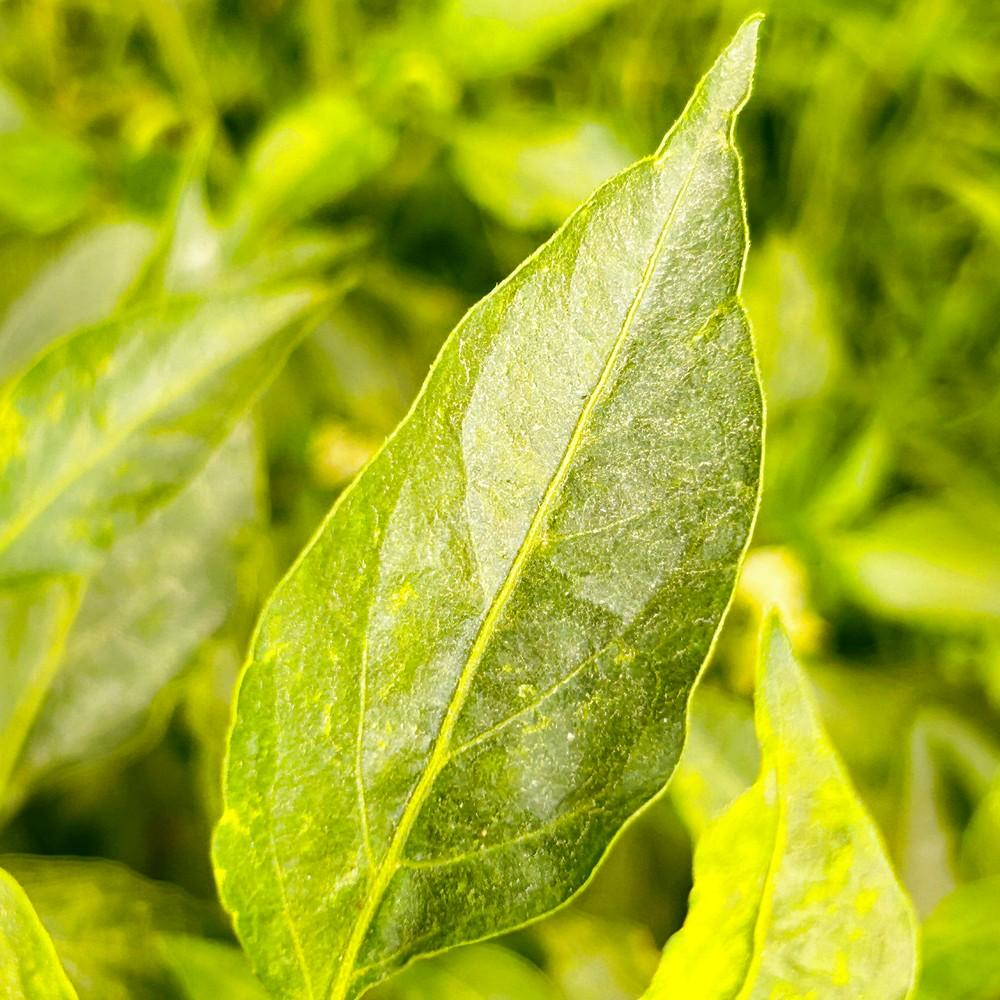Daun Cabai Sehat: (207, 10, 769, 997)
